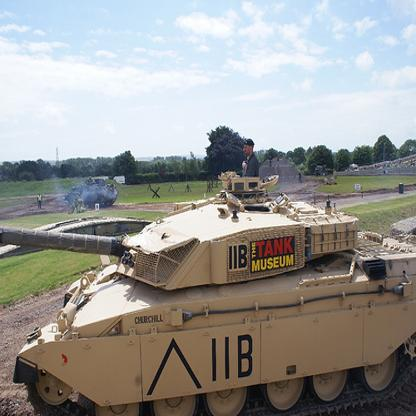Tank: (6, 170, 416, 416)
